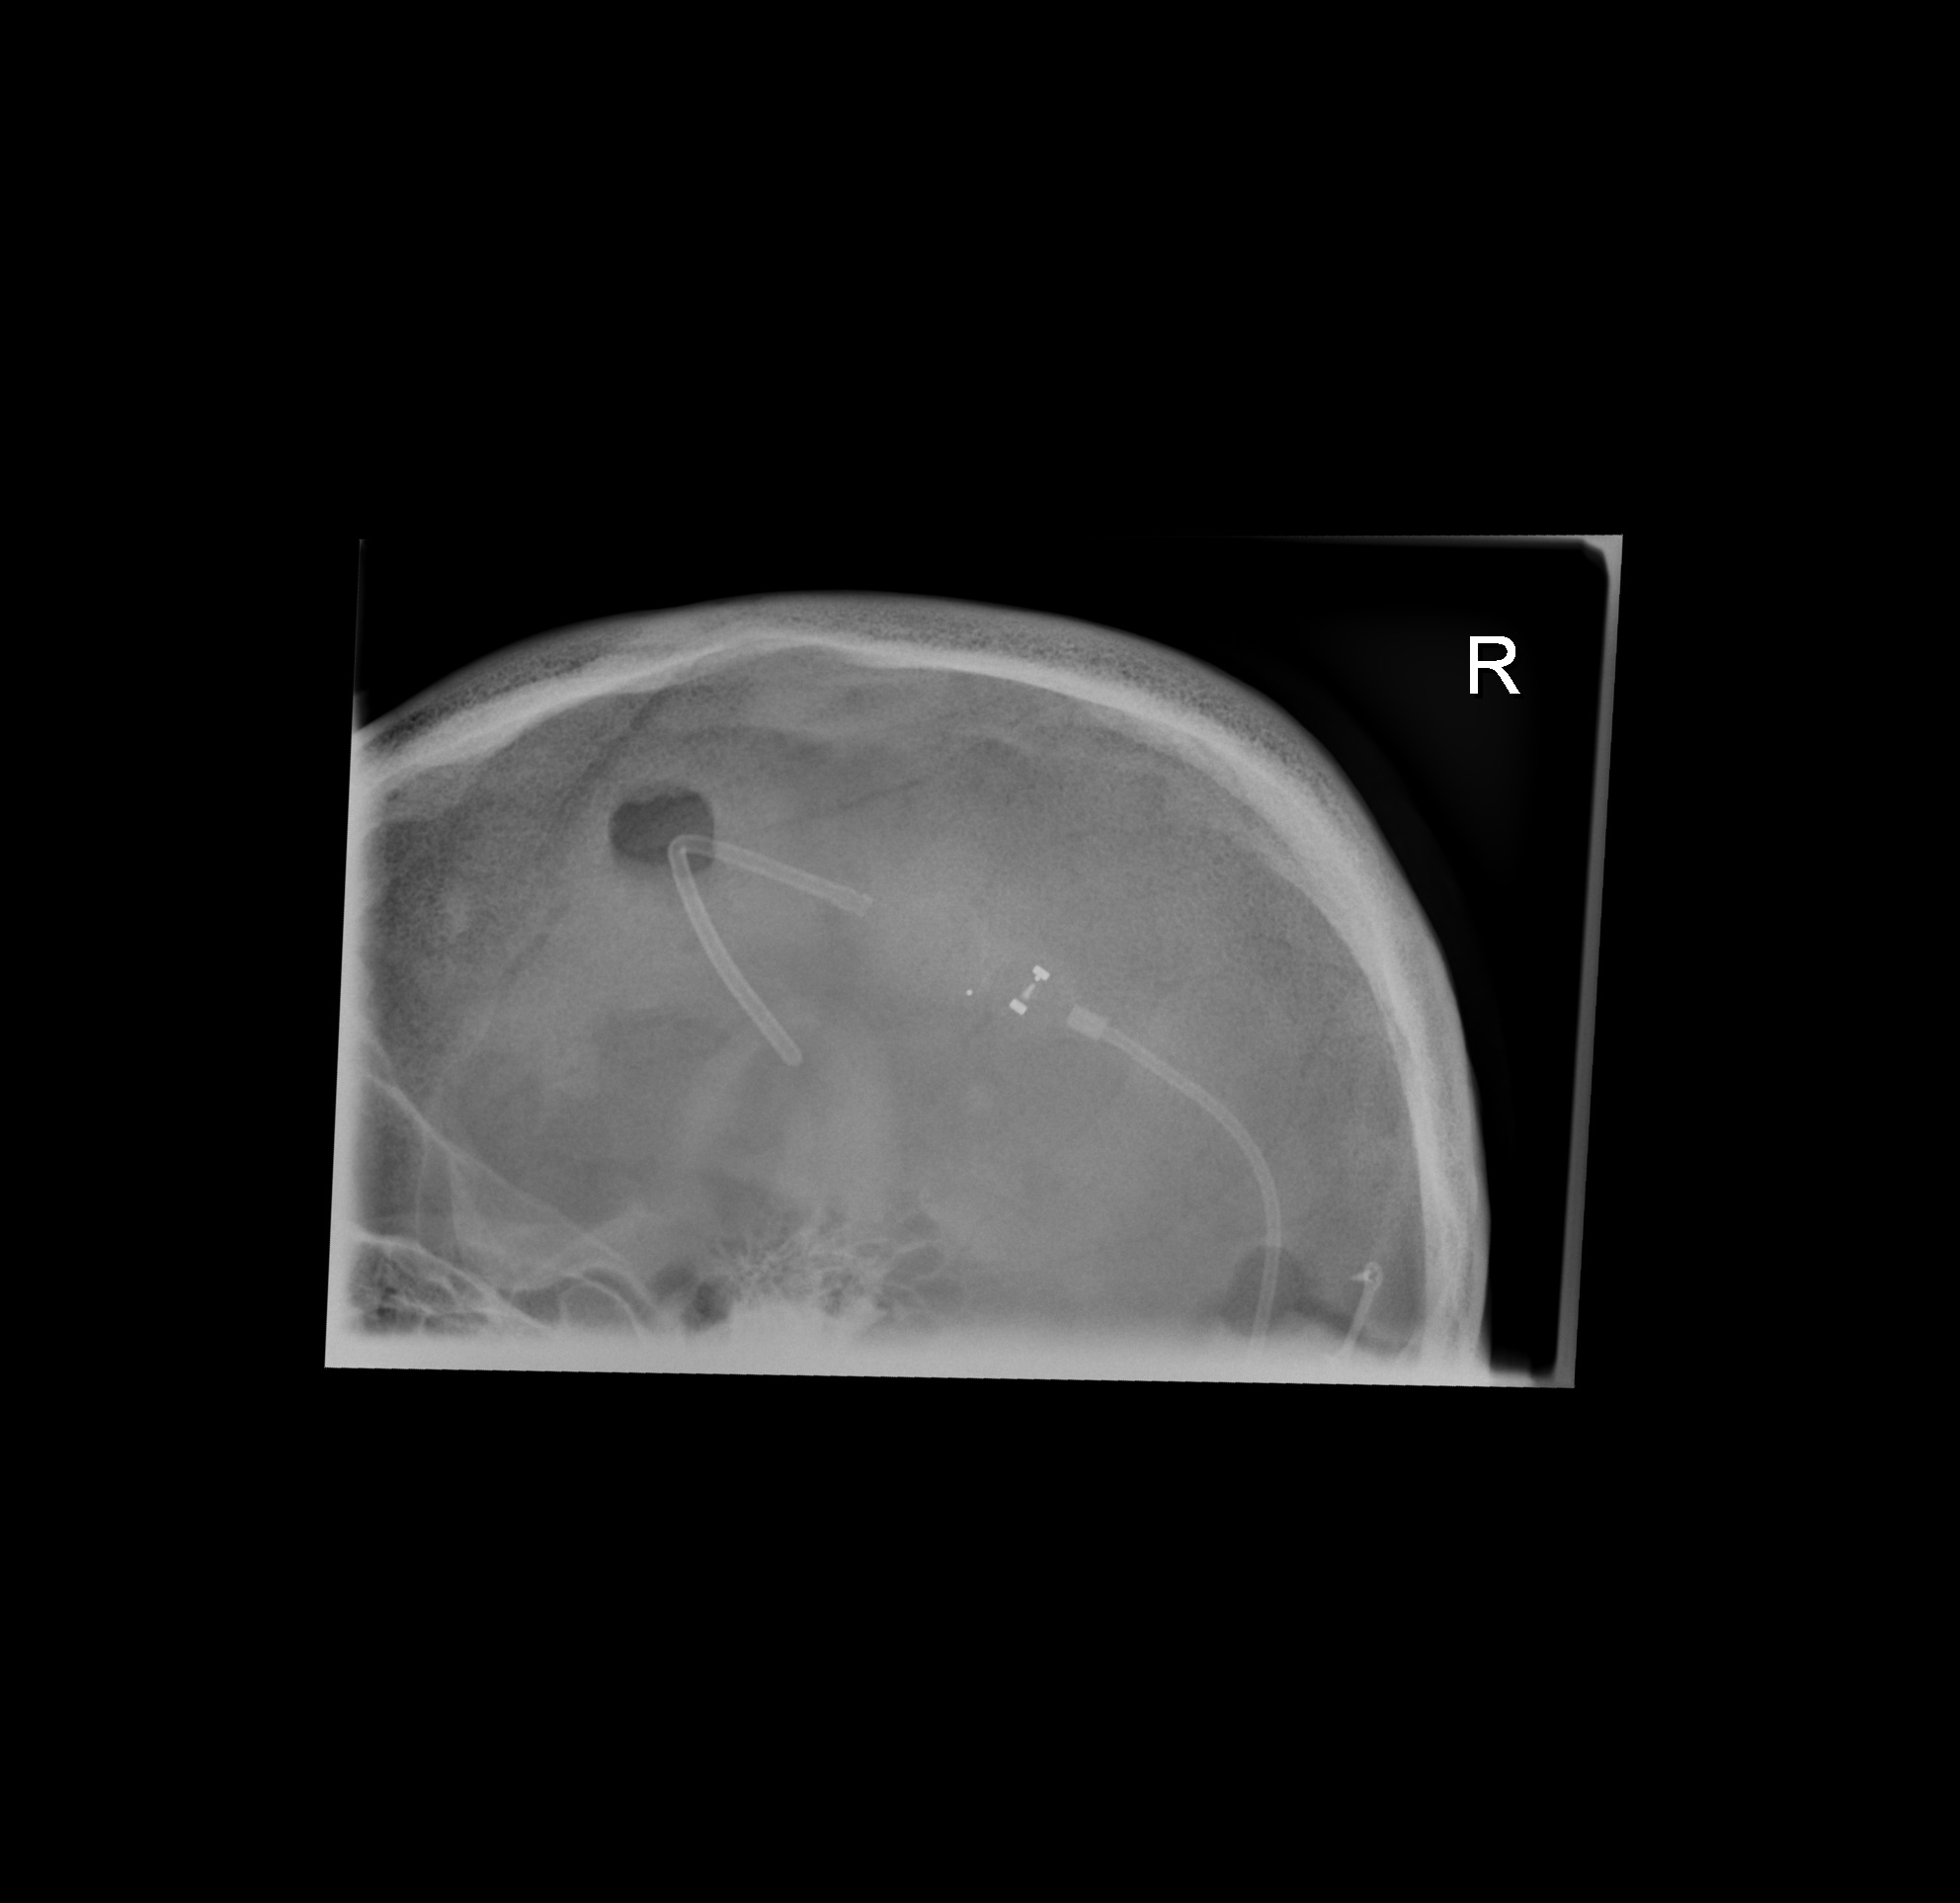Codman Certas: (943, 930, 1073, 1042)
